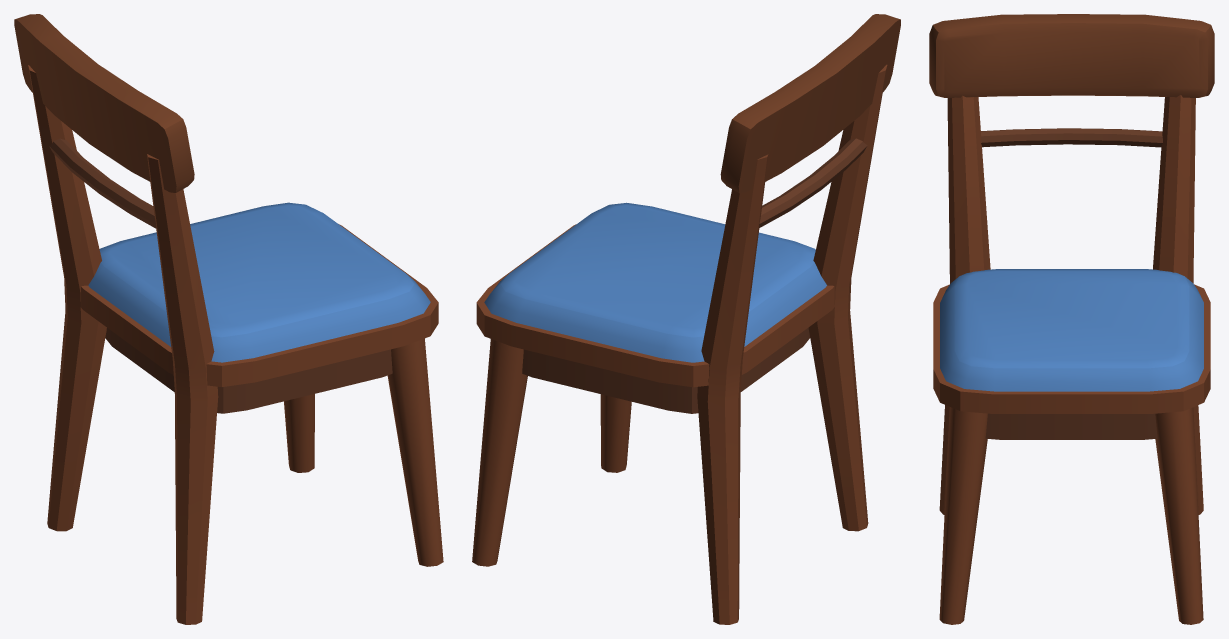
Rendered from chair.glb.
3 renders of one model, left to right at view 1: azimuth 30°, elevation 25°; view 2: azimuth 150°, elevation 25°; view 3: azimuth 270°, elevation 25°, orthographic. The views are drawn at different scales.
Visible parts, largest first — view 1: chair; view 2: chair; view 3: chair.
Part boxes in pixels (left/top/right/bottom): chair: left=14, top=14, right=443, bottom=624; chair: left=472, top=14, right=900, bottom=624; chair: left=929, top=14, right=1214, bottom=624.
Bounding box in the file's own units: 0.7038 × 1.13 × 0.609.
